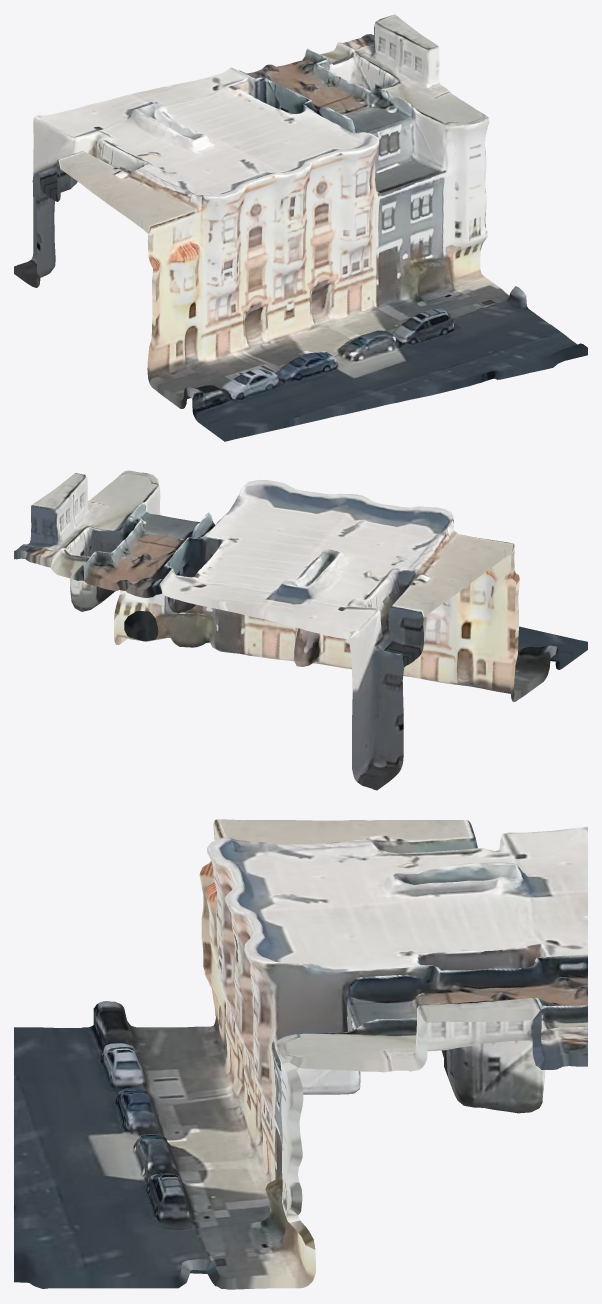
Rendered from z20-167743-405193-h0-yup-uvflip-v3-world.glb.
The picture shows the model from 3 angles, top to bottom: view 1: azimuth 30°, elevation 25°; view 2: azimuth 150°, elevation 25°; view 3: azimuth 270°, elevation 25°; orthographic projection. The views are drawn at different scales.
Bounding box in the file's own units: 30.16 × 16.28 × 30.32.
Materials: 1 (1 with a texture image).
